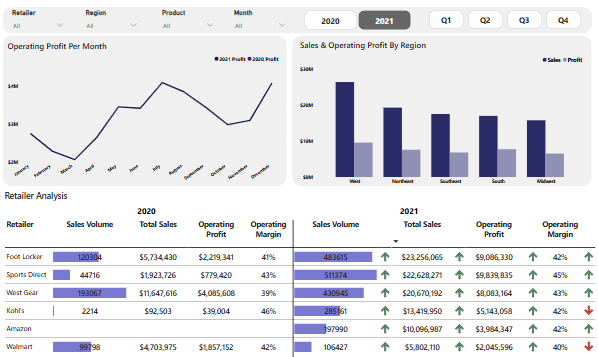

This screenshot's page, from the dashboard's own definition file:
{"tool":"powerbi","page":{"name":"2","canvas":[1600,960],"ordinal":1},"visuals":[{"type":"shape","box":[13.3,6.6,1572.6,70.7],"z":0},{"type":"shape","box":[785.7,83.5,799.6,401.8],"z":1000},{"type":"shape","box":[13.9,85.5,757.8,401.8],"z":2000},{"type":"pivotTable","title":"Retailer Analysis","fields":{"Rows":["Retailers.retailer"],"Values":["Sales.2020 Units Sold","Sales.2020 Total Sales","Sales.2020 op profit","Sales.2020 Op Margin","Sales.2021 Units Sold","Sales.2020 Units Sold minus 2021 Units Sold","Sales.2021 Total Sales","Sales.2020 Total Sales minus 2021 Total Sales","Sales.2021 op profit","Sales.2020 op profit minus 2021 op profit","Sales.2021 Op Margin","Sales.2020 Op Margin minus 2021 Op Margin"]},"box":[13.3,485.9,1585.8,474.9],"z":3000},{"type":"advancedSlicerVisual","fields":{"Values":["Sales.invoice_date.Variation.Date Hierarchy.Year"]},"box":[810.6,11,293.7,61.8],"z":4000},{"type":"advancedSlicerVisual","fields":{"Values":["Sales.Short_Quarter"]},"box":[1145.7,13.9,415.7,59.7],"z":5000},{"type":"textbox","box":[85.5,531.1,1348.5,39.8],"z":6000},{"type":"lineChart","title":"Operating Profit Per Month","fields":{"Category":["Sales.invoice_date.Variation.Date Hierarchy.Month"],"Y":["Sales.2021 Op. Profit","Sales.2020 Op. Profit"]},"box":[21.9,91.5,737.9,395.8],"z":7000},{"type":"clusteredColumnChart","title":"Sales & Operating Profit By Region","fields":{"Category":["Region.region"],"Y":["Sum(Sales.total_sales)","Sum(Sales.operating_profit)"]},"box":[786.3,79.5,775.2,406.4],"z":8000},{"type":"slicer","fields":{"Values":["Region.region"]},"box":[221.4,7.7,165.6,64.1],"z":9000},{"type":"slicer","fields":{"Values":["Products.product"]},"box":[422.4,7.7,165.6,64.1],"z":10000},{"type":"slicer","fields":{"Values":["Sales.invoice_date.Variation.Date Hierarchy.Month"]},"box":[614.3,7,165,63.7],"z":11000},{"type":"slicer","fields":{"Values":["Retailers.retailer"]},"box":[22.7,7.7,165,64.1],"z":12000},{"type":"shape","box":[582,574,406,374],"z":13000}]}

Visuals, with their boxes in screenshot pixels (x1, y1, x2, y2), scaled from the page's 1600x960 canvas onto the 598x357 screenshot:
shape: crop(5, 2, 593, 29)
shape: crop(294, 31, 593, 180)
shape: crop(5, 32, 288, 181)
"Retailer Analysis" pivotTable: crop(5, 181, 597, 356)
advancedSlicerVisual - Sales.invoice_date.Variation.Date Hierarchy.Year: crop(303, 4, 413, 27)
advancedSlicerVisual - Sales.Short_Quarter: crop(428, 5, 584, 27)
textbox: crop(32, 198, 536, 212)
"Operating Profit Per Month" lineChart: crop(8, 34, 284, 181)
"Sales & Operating Profit By Region" clusteredColumnChart: crop(294, 30, 584, 181)
slicer - Region.region: crop(83, 3, 145, 27)
slicer - Products.product: crop(158, 3, 220, 27)
slicer - Sales.invoice_date.Variation.Date Hierarchy.Month: crop(230, 3, 291, 26)
slicer - Retailers.retailer: crop(8, 3, 70, 27)
shape: crop(218, 213, 369, 353)
